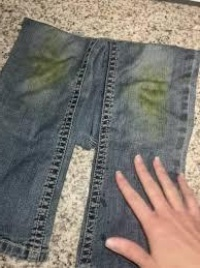earth: (136, 69, 168, 135), (31, 42, 69, 86)
